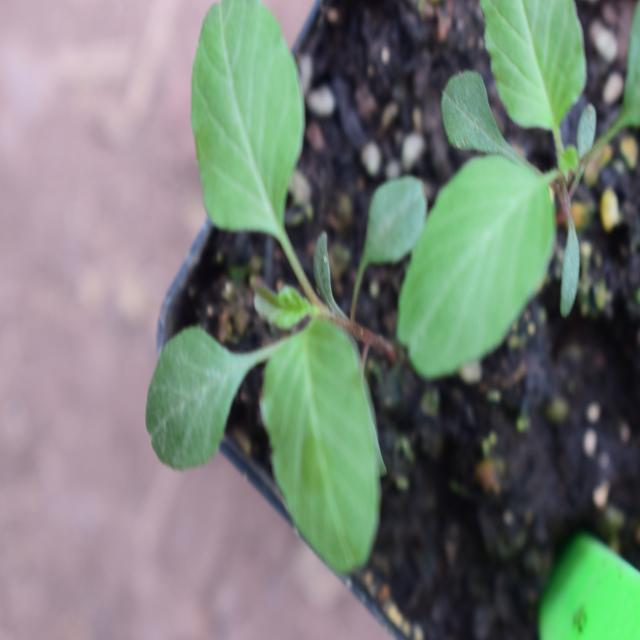pigweed: (147, 0, 439, 577)
